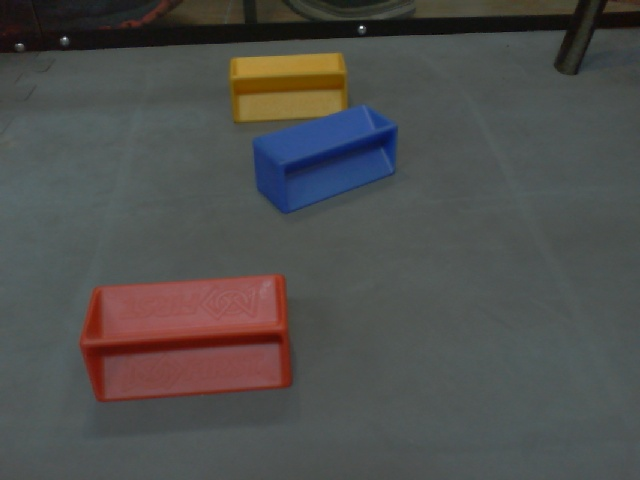BlueSample: (252, 102, 402, 214)
RedSample: (77, 271, 293, 403)
YellowSample: (227, 52, 350, 123)
